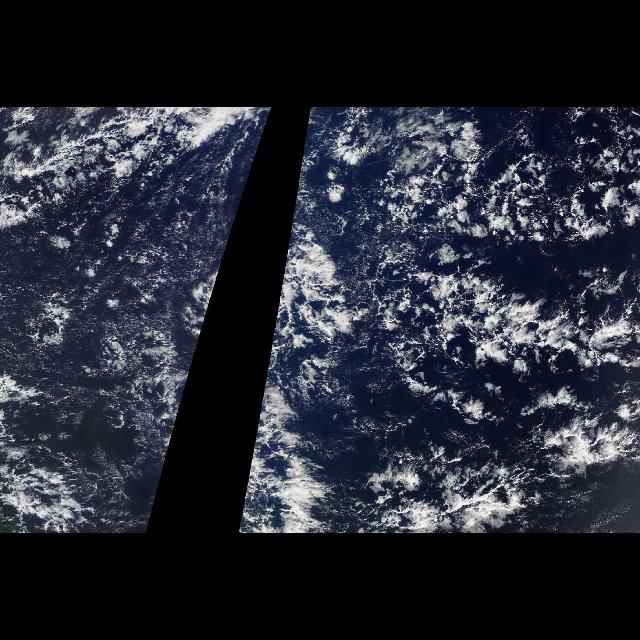Fish: (330, 107, 640, 533), (2, 107, 198, 261)
Gravel: (40, 152, 246, 424), (352, 240, 490, 378)
